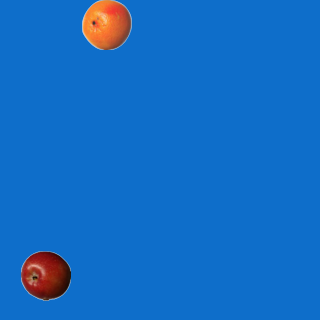Apple Braeburn: (20, 250, 70, 300)
Grapefruit Pink: (81, 0, 131, 49)
